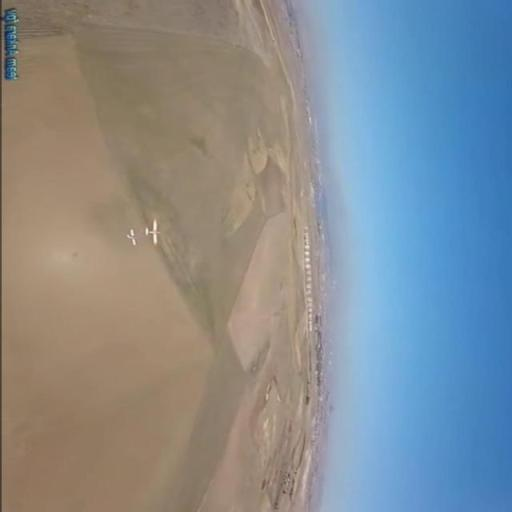uav: (142, 220, 160, 244), (122, 228, 136, 245)
